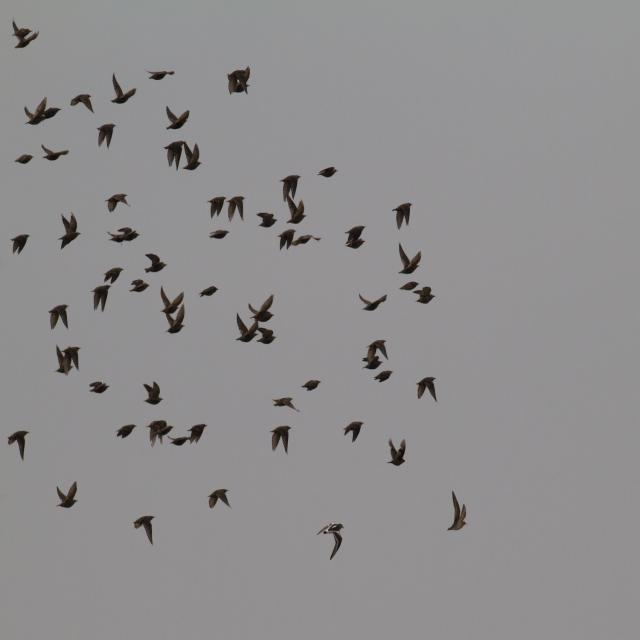bird: (316, 522, 345, 562), (24, 97, 58, 128), (108, 73, 136, 106), (446, 490, 469, 530), (56, 344, 83, 378), (145, 418, 175, 448), (60, 211, 83, 249), (10, 18, 38, 48), (396, 244, 422, 276), (226, 65, 252, 96), (7, 426, 30, 461), (235, 311, 259, 344), (270, 422, 294, 454), (246, 294, 275, 320), (180, 142, 203, 174), (342, 224, 368, 252), (361, 337, 389, 363), (135, 514, 157, 547), (387, 436, 409, 468), (166, 106, 191, 134), (180, 422, 208, 447), (56, 482, 79, 512), (92, 281, 115, 310), (164, 140, 186, 170), (282, 198, 306, 225), (48, 302, 71, 330), (415, 374, 438, 402), (158, 286, 182, 312), (142, 381, 165, 408), (343, 417, 366, 444), (225, 195, 248, 222), (358, 292, 387, 313), (411, 283, 437, 306), (162, 311, 186, 335), (209, 486, 231, 512), (108, 227, 141, 244), (279, 174, 302, 198), (142, 252, 168, 273), (105, 194, 132, 214), (208, 193, 228, 220), (394, 202, 414, 228), (95, 122, 115, 148), (255, 327, 278, 349), (275, 227, 298, 249), (41, 145, 69, 163), (270, 396, 297, 414), (72, 93, 95, 113), (293, 232, 321, 248), (256, 212, 278, 232), (373, 367, 396, 386), (12, 232, 30, 256), (102, 266, 126, 284), (116, 420, 137, 440), (146, 67, 176, 81), (86, 379, 110, 396), (128, 280, 150, 296), (301, 377, 322, 393), (209, 228, 232, 242), (399, 278, 422, 292), (199, 286, 218, 302), (318, 165, 337, 181), (14, 154, 34, 168)
